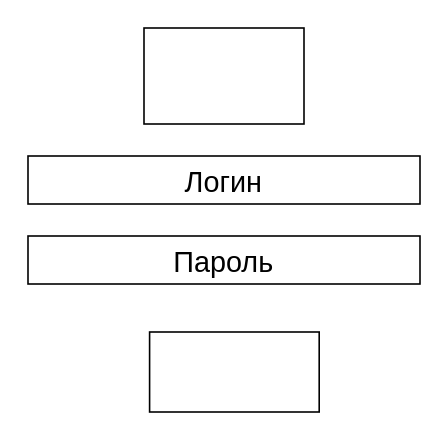
This 448x440 diagram has some shape labels left out. Here are the shapes that lost their labels. From the top down, the centre of each, then its label:
At point (223, 75): "Логотип".
At point (233, 371): "Войти".
